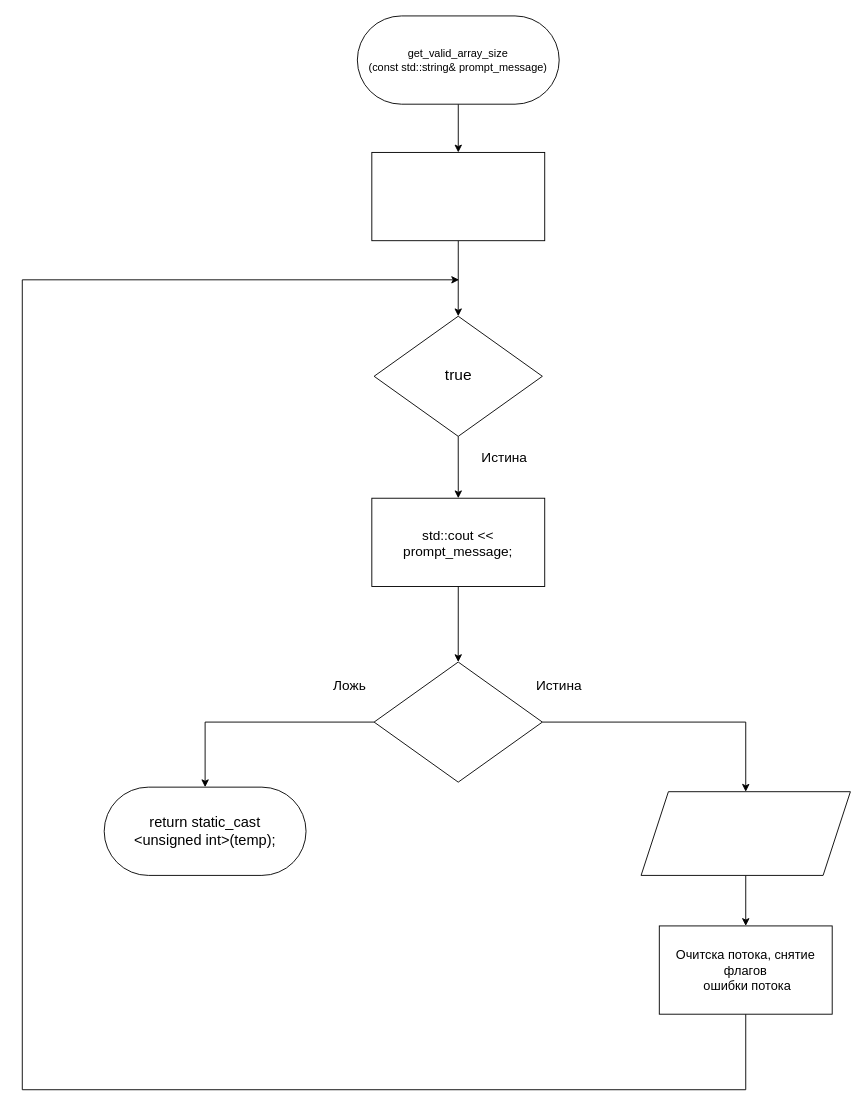
Image size: 866x1113. Some labels were removed from this diagram. The shapes that lost their labels are listed below. From the top down, each one's centre as x and y in pixels, then its label:
At pixel 458 196: "double array_size; int temp;".
At pixel 457 721: "Если число синтаксически некорректно или <= 0 или если дробное".
At pixel 745 833: "Вывод соотвутствующего сообщения об ошибке".
